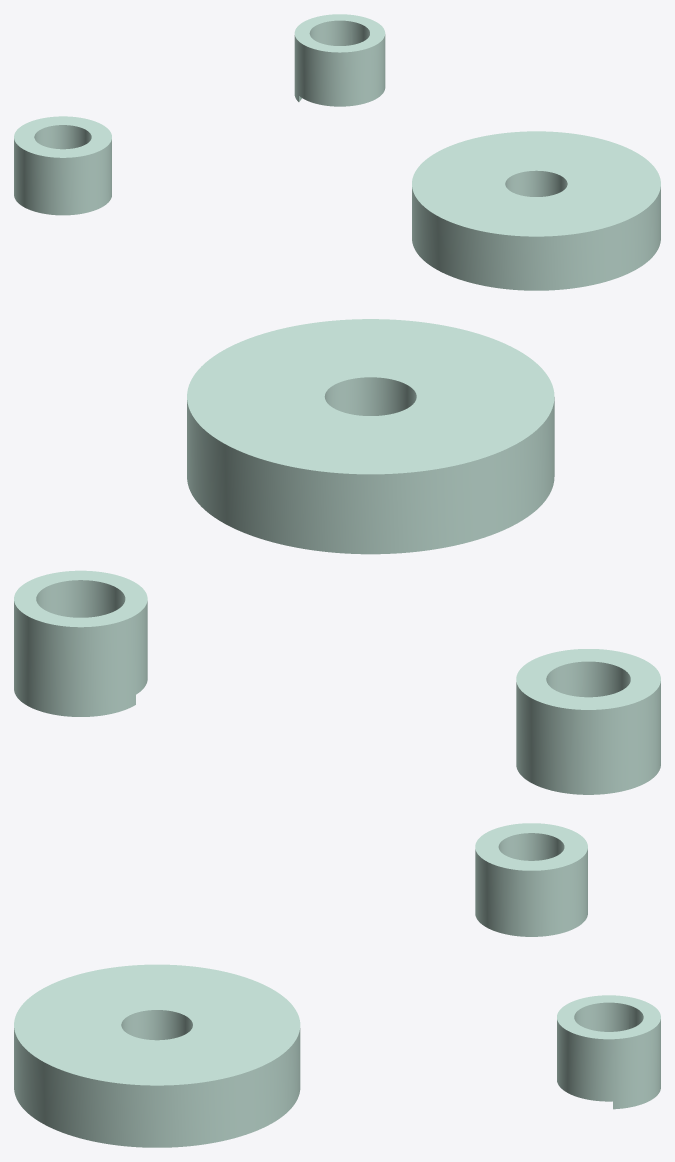
3 renders of one model, top to bottom at view 1: azimuth 30°, elevation 25°; view 2: azimuth 150°, elevation 25°; view 3: azimuth 270°, elevation 25°, orthographic. The views are drawn at different scales.
Parts seen in each view (by area): view 1: Renderer Node; view 2: Renderer Node; view 3: Renderer Node.
Boxes of the visible parts, x1=… form: Renderer Node: x1=14, y1=14, x2=660, y2=290; Renderer Node: x1=14, y1=319, x2=660, y2=794; Renderer Node: x1=14, y1=823, x2=660, y2=1147.
Size of the model in its own units: 1.11 by 0.1406 by 1.18.
